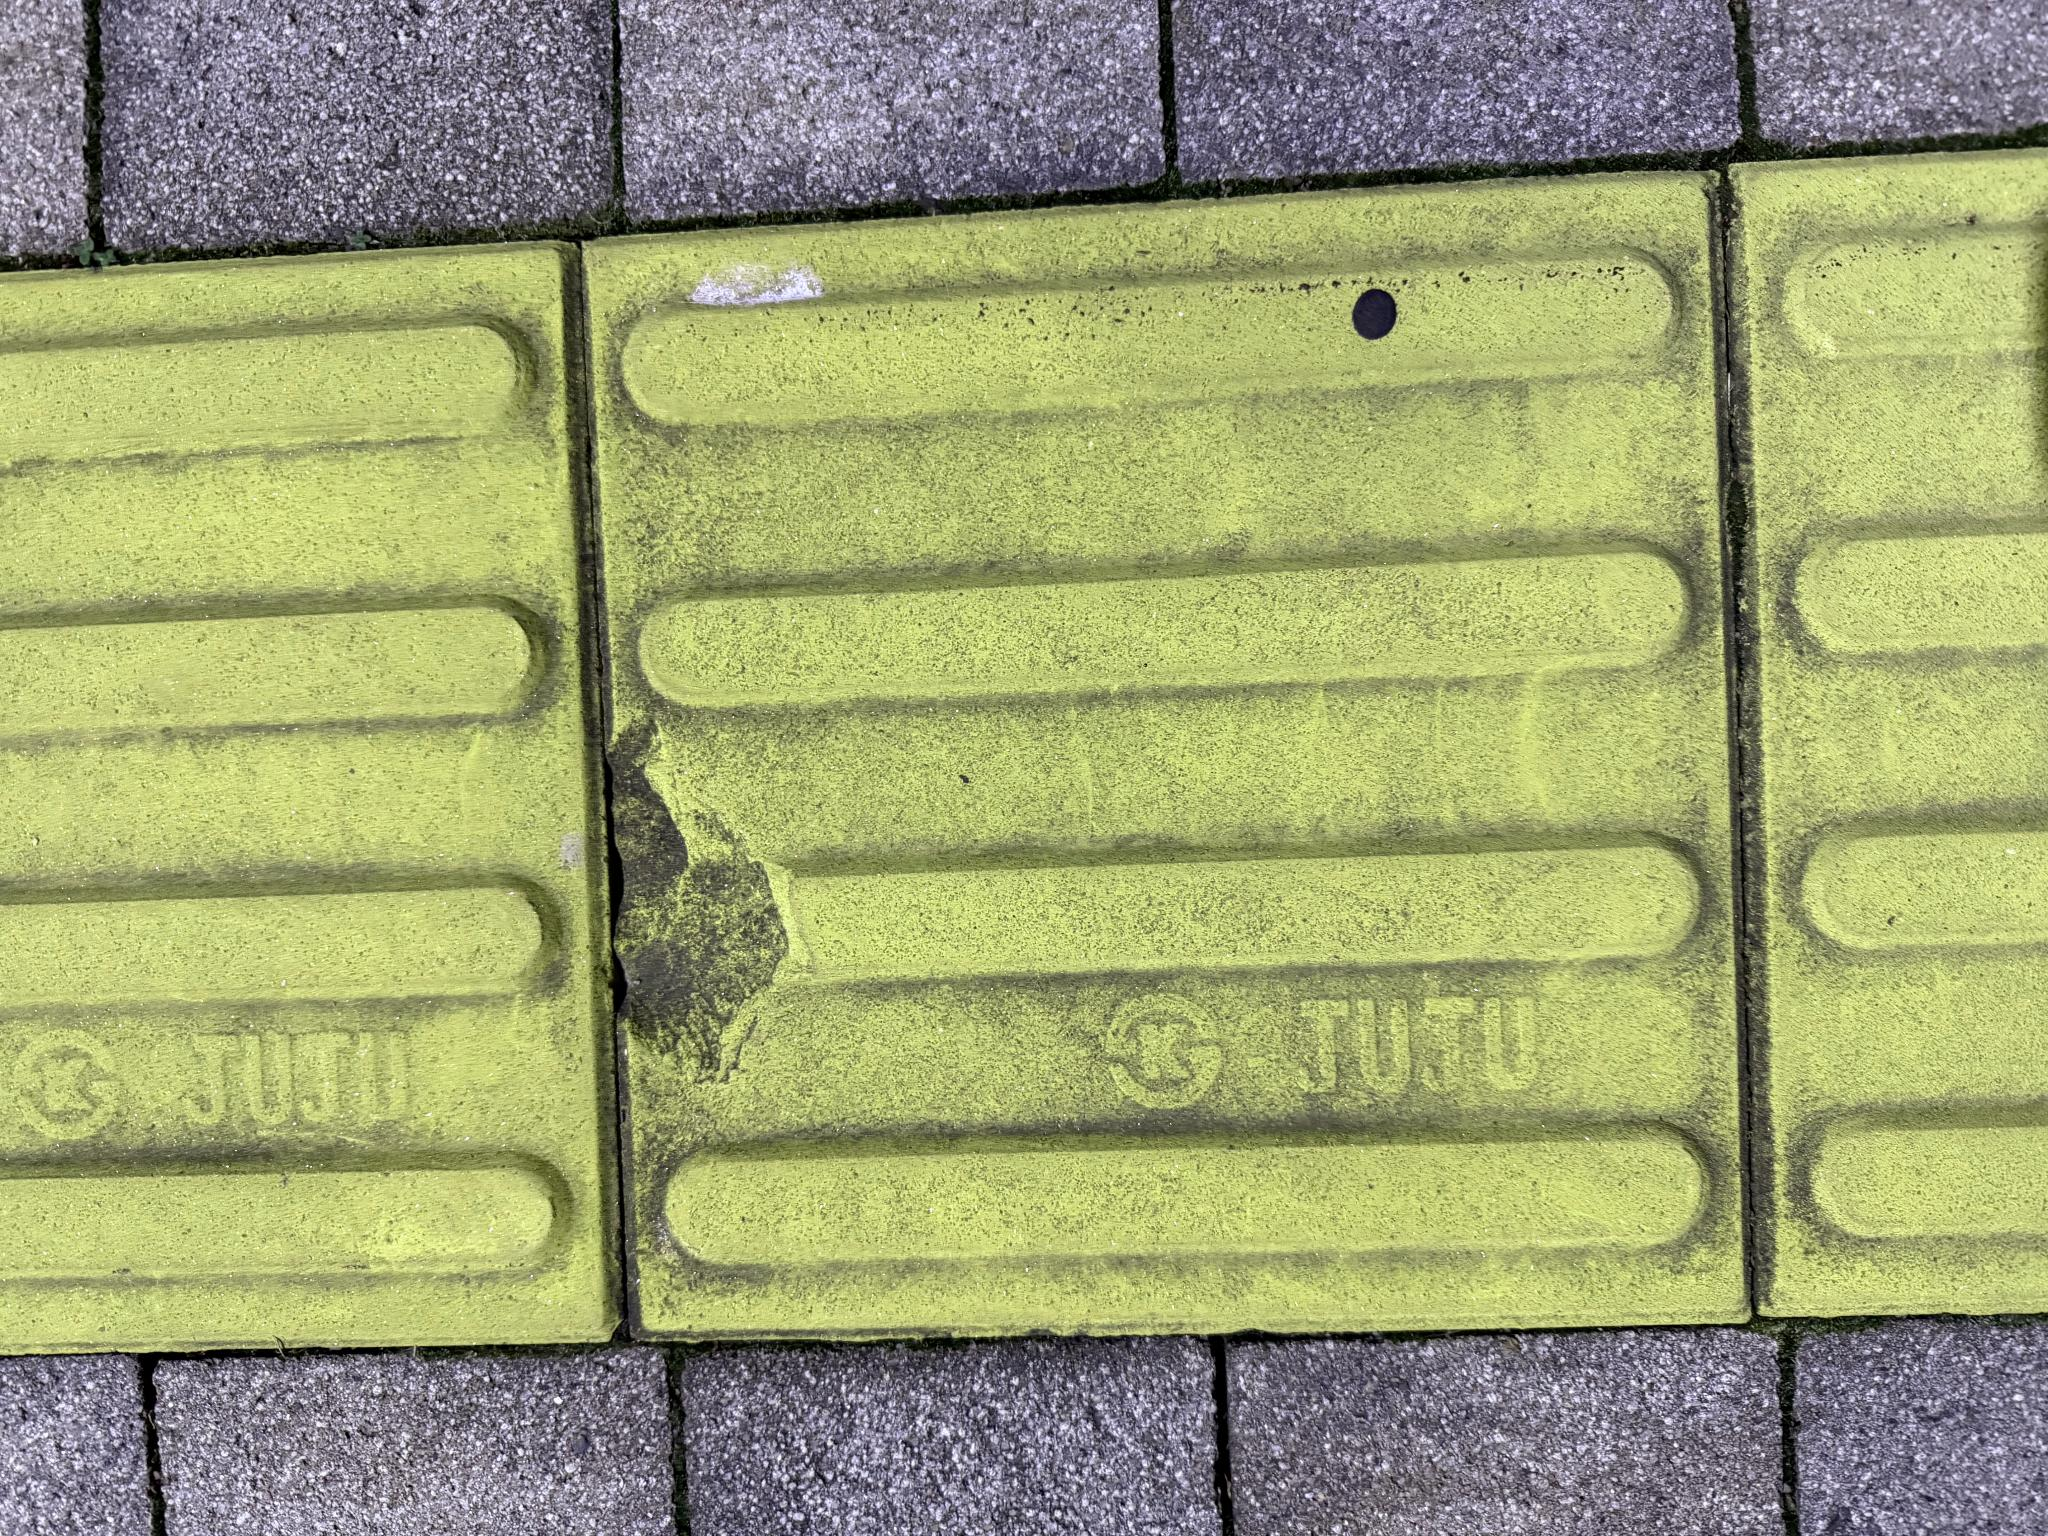Straight block broken: (205, 592, 1348, 1536)
